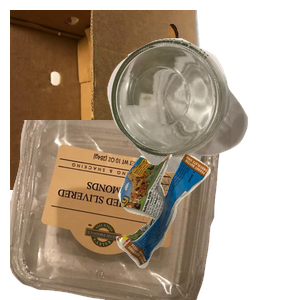cardboard: (10, 10, 211, 190)
glass: (105, 36, 300, 201)
plastic: (10, 120, 227, 300)
trash: (114, 151, 300, 300)
